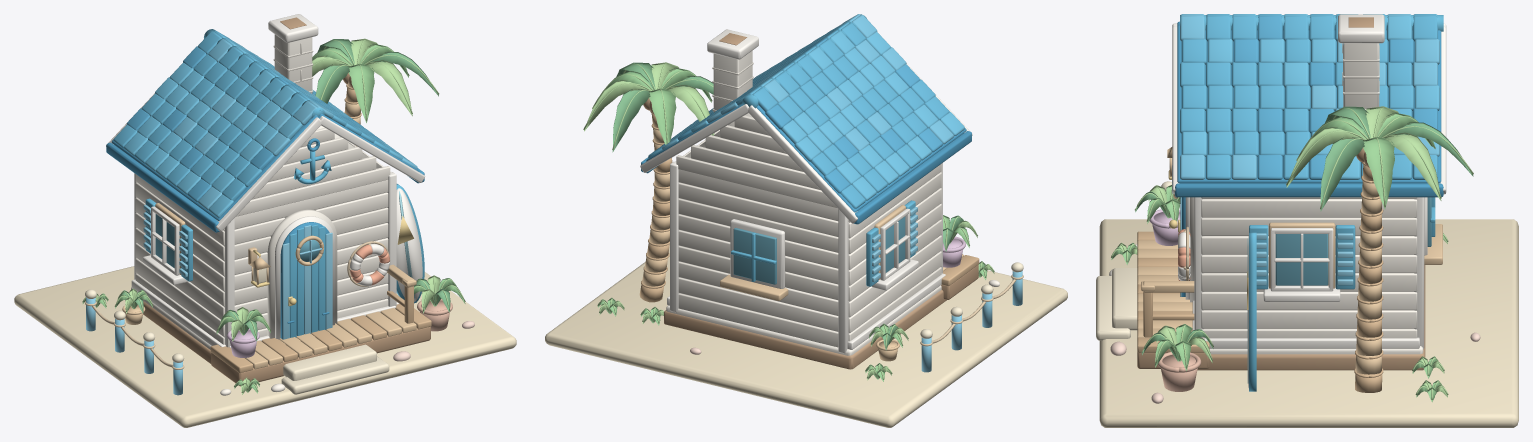
Rendered from seaside_house_03.glb.
The picture shows the model from 3 angles, left to right: view 1: azimuth 30°, elevation 25°; view 2: azimuth 150°, elevation 25°; view 3: azimuth 270°, elevation 25°; orthographic projection. The views are drawn at different scales.
Parts seen in each view (by area): view 1: Base__sand, Clapboards__siding, Roof_Tiles__roof1, Roof_Tiles__roof2, Gable_Clapboards__siding, Clapboards__siding2, Front_Steps__sand_light, Deck_Planks__wood_light, Roof_Tiles__roof4, Door_Planks__blue, Roof_Fascia__trim, Corner_Trim__trim (+31 smaller); view 2: Base__sand, Clapboards__siding, Roof_Tiles__roof1, Clapboards__siding2, Roof_Tiles__roof2, Gable_Clapboards__siding, House_Foundation__wood_dark, Corner_Trim__trim, Roof_Tiles__roof4, Roof_Fascia__trim, Palm_Crown__leaf_light, Roof_Tiles__roof3 (+24 smaller); view 3: Base__sand, Roof_Tiles__roof1, Clapboards__siding, Clapboards__siding2, Roof_Tiles__roof2, Roof_Tiles__roof3, Roof_Tiles__roof4, Palm_Crown__leaf_light, Eave_Edge__blue_dark, House_Foundation__wood_dark, Roof_Underlay__blue_dark, Palm_Trunk__wood_light (+32 smaller).
Part boxes in pixels (<box>): Base__sand: <box>14,266,516,427</box>; Clapboards__siding: <box>135,141,391,336</box>; Roof_Tiles__roof1: <box>113,30,406,200</box>; Roof_Tiles__roof2: <box>124,38,402,217</box>; Gable_Clapboards__siding: <box>236,128,390,216</box>; Clapboards__siding2: <box>135,182,388,344</box>; Front_Steps__sand_light: <box>281,344,389,394</box>; Deck_Planks__wood_light: <box>245,308,416,369</box>; Roof_Tiles__roof4: <box>173,39,417,209</box>; Door_Planks__blue: <box>289,224,325,337</box>; Roof_Fascia__trim: <box>106,93,424,231</box>; Corner_Trim__trim: <box>134,172,396,347</box>; Base__sand: <box>545,244,1067,427</box>; Clapboards__siding: <box>675,130,941,332</box>; Roof_Tiles__roof1: <box>648,22,949,208</box>; Clapboards__siding2: <box>678,172,941,347</box>; Roof_Tiles__roof2: <box>671,31,964,200</box>; Gable_Clapboards__siding: <box>676,115,836,207</box>; House_Foundation__wood_dark: <box>664,290,946,369</box>; Corner_Trim__trim: <box>670,161,942,353</box>; Roof_Tiles__roof4: <box>662,14,953,150</box>; Roof_Fascia__trim: <box>640,32,972,223</box>; Palm_Crown__leaf_light: <box>583,62,714,149</box>; Roof_Tiles__roof3: <box>677,38,942,193</box>; Base__sand: <box>1099,219,1518,427</box>; Roof_Tiles__roof1: <box>1180,14,1437,179</box>; Clapboards__siding: <box>1201,197,1417,328</box>; Clapboards__siding2: <box>1201,217,1417,338</box>; Roof_Tiles__roof2: <box>1181,14,1439,179</box>; Roof_Tiles__roof3: <box>1233,15,1437,179</box>; Roof_Tiles__roof4: <box>1180,14,1439,179</box>; Palm_Crown__leaf_light: <box>1286,106,1473,209</box>; Eave_Edge__blue_dark: <box>1175,183,1443,197</box>; House_Foundation__wood_dark: <box>1197,265,1425,370</box>; Roof_Underlay__blue_dark: <box>1177,21,1441,183</box>; Palm_Trunk__wood_light: <box>1355,181,1381,374</box>.
Bounding box in the file's own units: 6.76 × 5.16 × 5.85.
